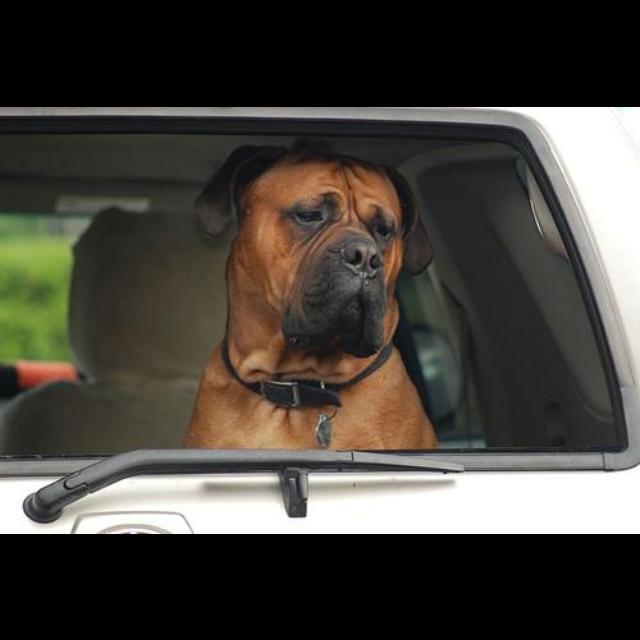bullmastiff: (183, 142, 441, 450)
